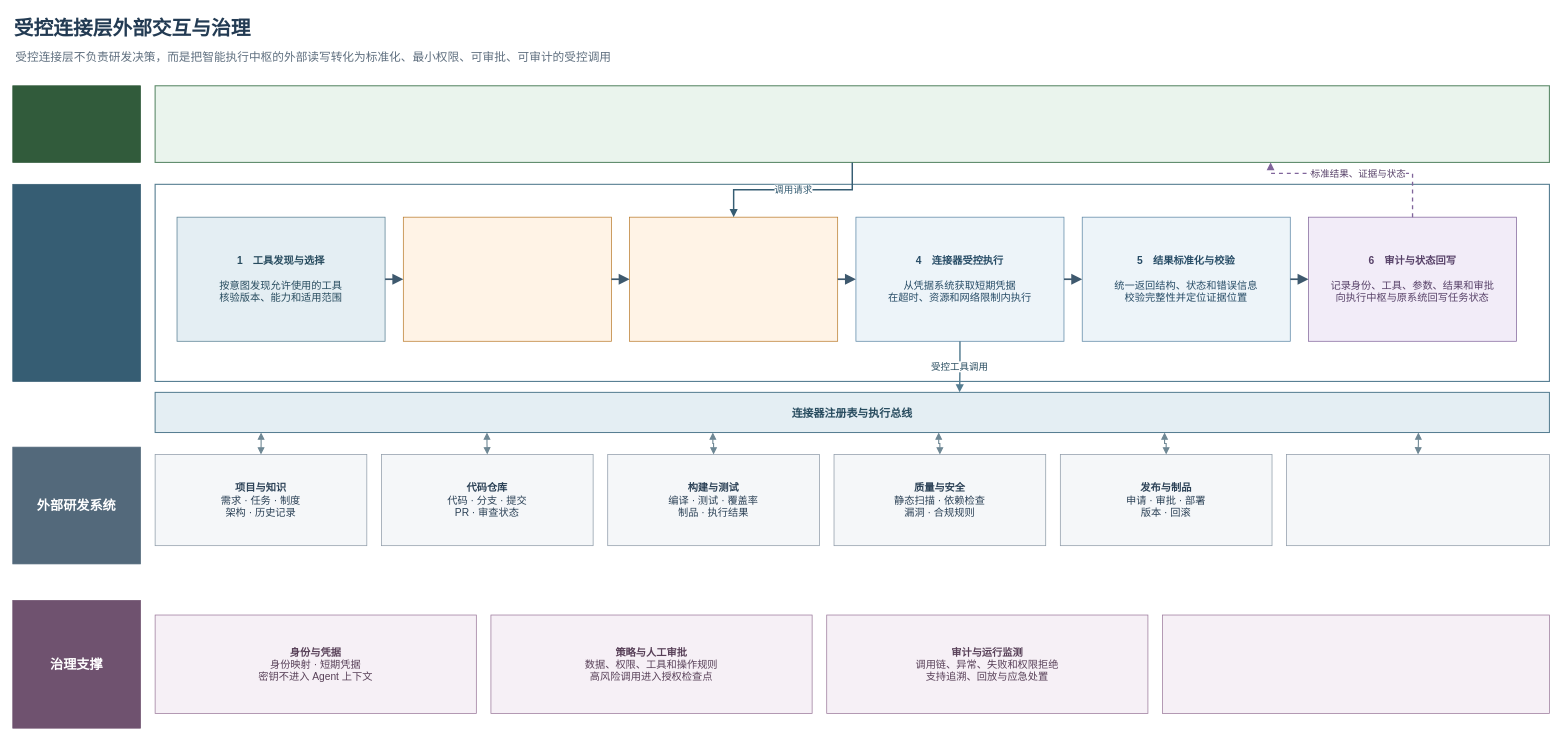
Some shapes in this 1563 by 741 pixel diagram are drawn without their labels. The centre of each missing label's shape, as x and y in pixels:
"2 身份与权限授权 映射任务身份和责任人 申请最小权限与限时租约" goes at point 507,278.
"3 上下文与参数校验 检查数据等级、字段、范围和格式 实施脱敏、最小化与读写白名单" goes at point 733,278.
"主控 / 专业 Agent 提交结构化调用请求：任务、工具意图、参数、所需权限、预期结果与证据要求" goes at point 852,124.
"受控调用链" goes at point 76,282.
"真实任务评价与退出 成功率 · 安全 · 稳定性 · 成本 决定优化、推广、降级或退出" goes at point 1355,664.
"调用发起方" goes at point 76,123.
"运维与观测 日志 · 指标 · 链路 · 告警 事件 · 工单" goes at point 1417,500.
